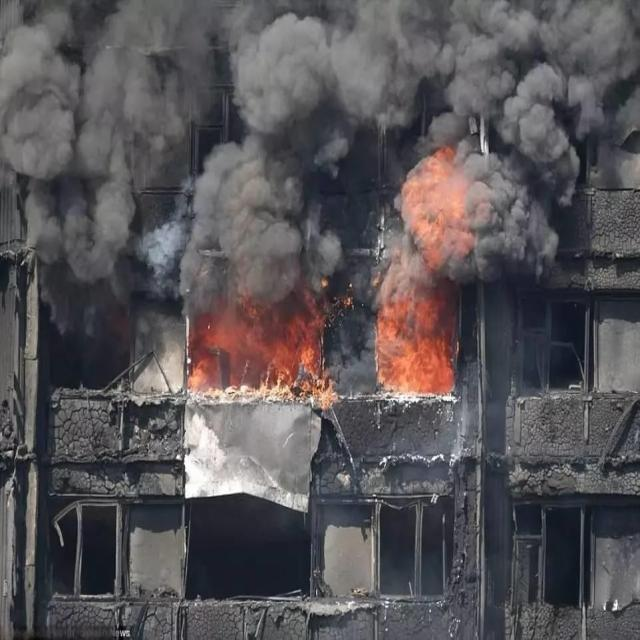Fire: (188, 301, 326, 399), (375, 282, 458, 395)
Smoke: (0, 0, 363, 314), (364, 0, 638, 280)
